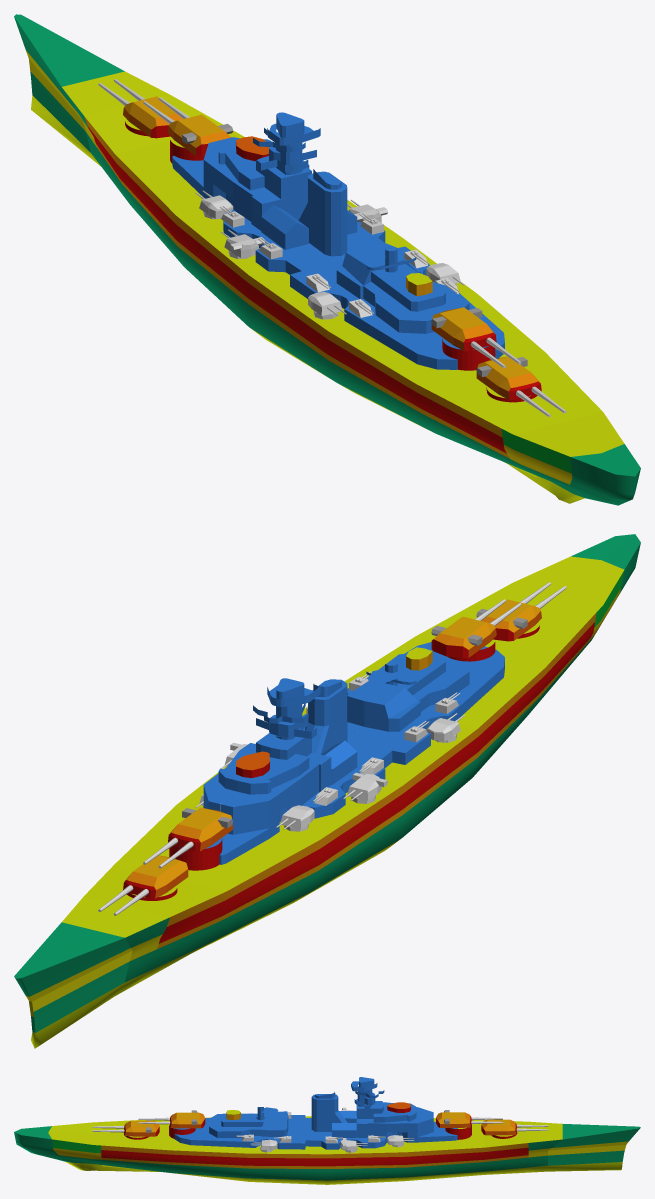
The model's file is bismark_low_poly2.glb.
The picture shows the model from 3 angles, top to bottom: view 1: azimuth 30°, elevation 25°; view 2: azimuth 150°, elevation 25°; view 3: azimuth 270°, elevation 25°; orthographic projection. The views are drawn at different scales.
Visible parts, largest first — view 1: Hull, SuperStructure, 380mmTurret.002, 380mmTurret.003, 380mmTurret, 380mmTurret.001, Aft-Barbette; view 2: Hull, SuperStructure, 380mmTurret.002, 380mmTurret, 380mmTurret.001, 380mmTurret.003, For-Barbette, 150mmTurret.004; view 3: Hull, SuperStructure, 380mmTurret.002, 380mmTurret, 380mmTurret.001, 380mmTurret.003, For-Barbette, 150mmTurret, Aft-Barbette, Guns.
Boxes of the visible parts, x1=… form: Hull: x1=14, y1=14, x2=640, y2=505; SuperStructure: x1=172, y1=112, x2=504, y2=369; 380mmTurret.002: x1=431, y1=307, x2=496, y2=351; 380mmTurret.003: x1=476, y1=356, x2=541, y2=400; 380mmTurret: x1=167, y1=114, x2=233, y2=156; 380mmTurret.001: x1=123, y1=96, x2=182, y2=138; Aft-Barbette: x1=442, y1=338, x2=495, y2=370; Hull: x1=14, y1=534, x2=640, y2=1048; SuperStructure: x1=180, y1=642, x2=504, y2=864; 380mmTurret.002: x1=431, y1=616, x2=496, y2=658; 380mmTurret: x1=168, y1=807, x2=233, y2=851; 380mmTurret.001: x1=123, y1=855, x2=188, y2=898; 380mmTurret.003: x1=476, y1=599, x2=541, y2=641; For-Barbette: x1=169, y1=839, x2=222, y2=870; 150mmTurret.004: x1=347, y1=772, x2=387, y2=800; Hull: x1=14, y1=1116, x2=640, y2=1184; SuperStructure: x1=174, y1=1077, x2=457, y2=1149; 380mmTurret.002: x1=170, y1=1110, x2=205, y2=1128; 380mmTurret: x1=436, y1=1110, x2=471, y2=1127; 380mmTurret.001: x1=481, y1=1119, x2=516, y2=1135; 380mmTurret.003: x1=124, y1=1120, x2=159, y2=1136; For-Barbette: x1=445, y1=1125, x2=471, y2=1139; 150mmTurret: x1=340, y1=1138, x2=357, y2=1150; Aft-Barbette: x1=169, y1=1125, x2=195, y2=1138; Guns: x1=471, y1=1117, x2=502, y2=1123.
Size of the model in its own units: 36.05 by 39.94 by 251.
